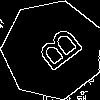B: (27, 25, 85, 79)
